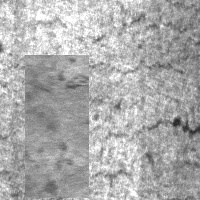crazing: (27, 31, 195, 138), (1, 120, 155, 189), (86, 10, 197, 76)
rolled-in_scale: (25, 55, 89, 198)
